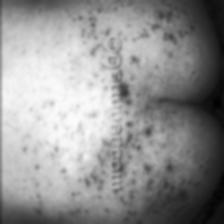Toxin: (23, 112, 102, 224), (124, 124, 194, 224), (52, 6, 102, 82), (116, 0, 196, 44), (124, 51, 145, 75), (122, 84, 136, 114)
